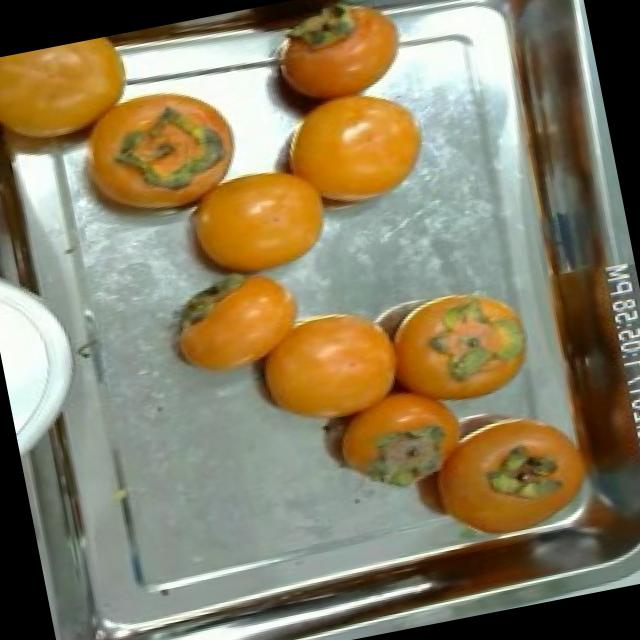Fruit: (245, 67, 454, 236), (366, 264, 556, 426), (156, 155, 352, 299), (237, 292, 423, 443), (146, 250, 327, 398), (62, 76, 254, 208), (0, 29, 160, 185), (304, 366, 482, 506)
